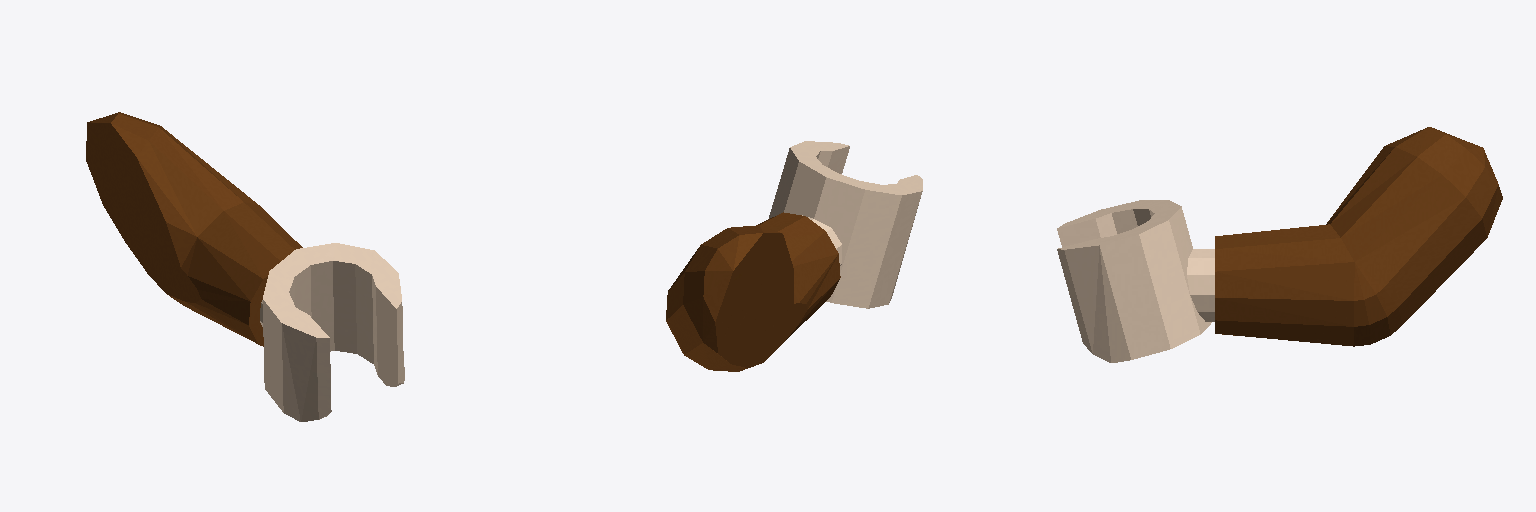
3 renders of one model, left to right at view 1: azimuth 30°, elevation 25°; view 2: azimuth 150°, elevation 25°; view 3: azimuth 270°, elevation 25°, orthographic.
Visible parts, largest first — view 1: brazoIzq; view 2: brazoIzq; view 3: brazoIzq.
Boxes of the visible parts, box(x1,y1,x2,y2) form: brazoIzq: box(86, 112, 404, 421); brazoIzq: box(666, 141, 922, 371); brazoIzq: box(1057, 127, 1502, 362).
Size of the model in its own units: 5.35 by 6.91 by 14.69.
Materials: 2 (2 with a texture image).